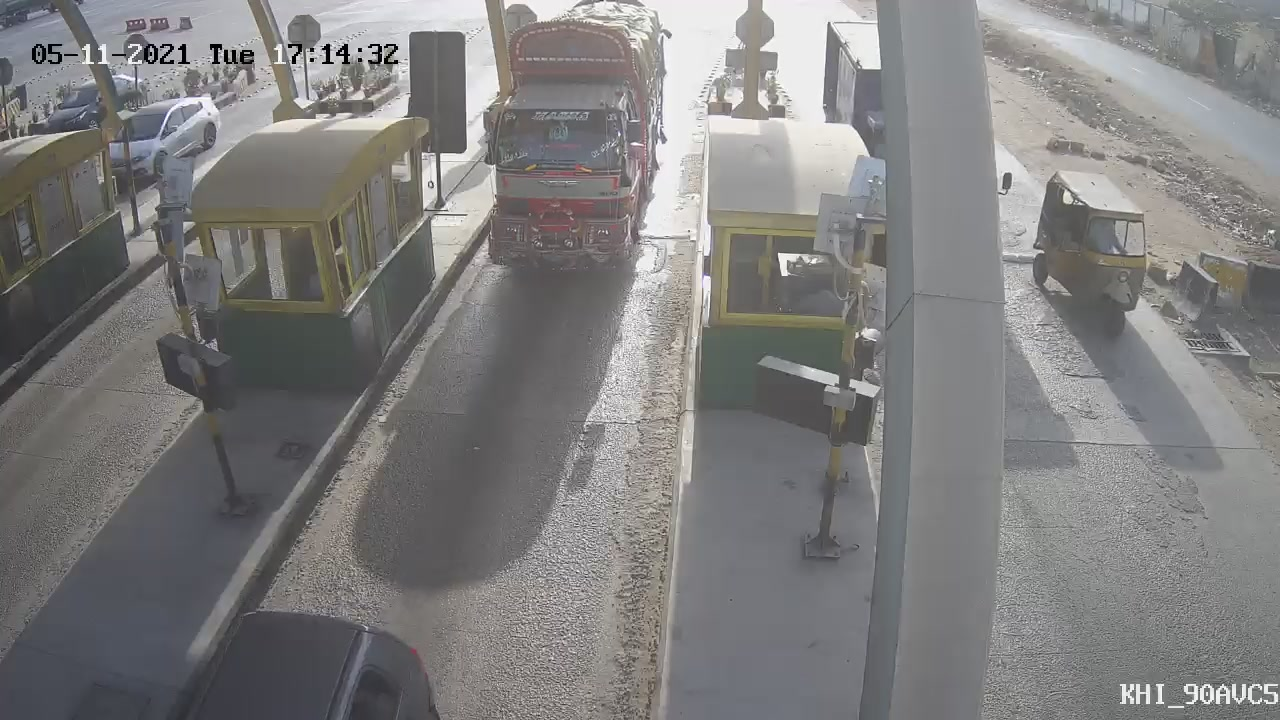F5: (443, 1, 700, 305)
